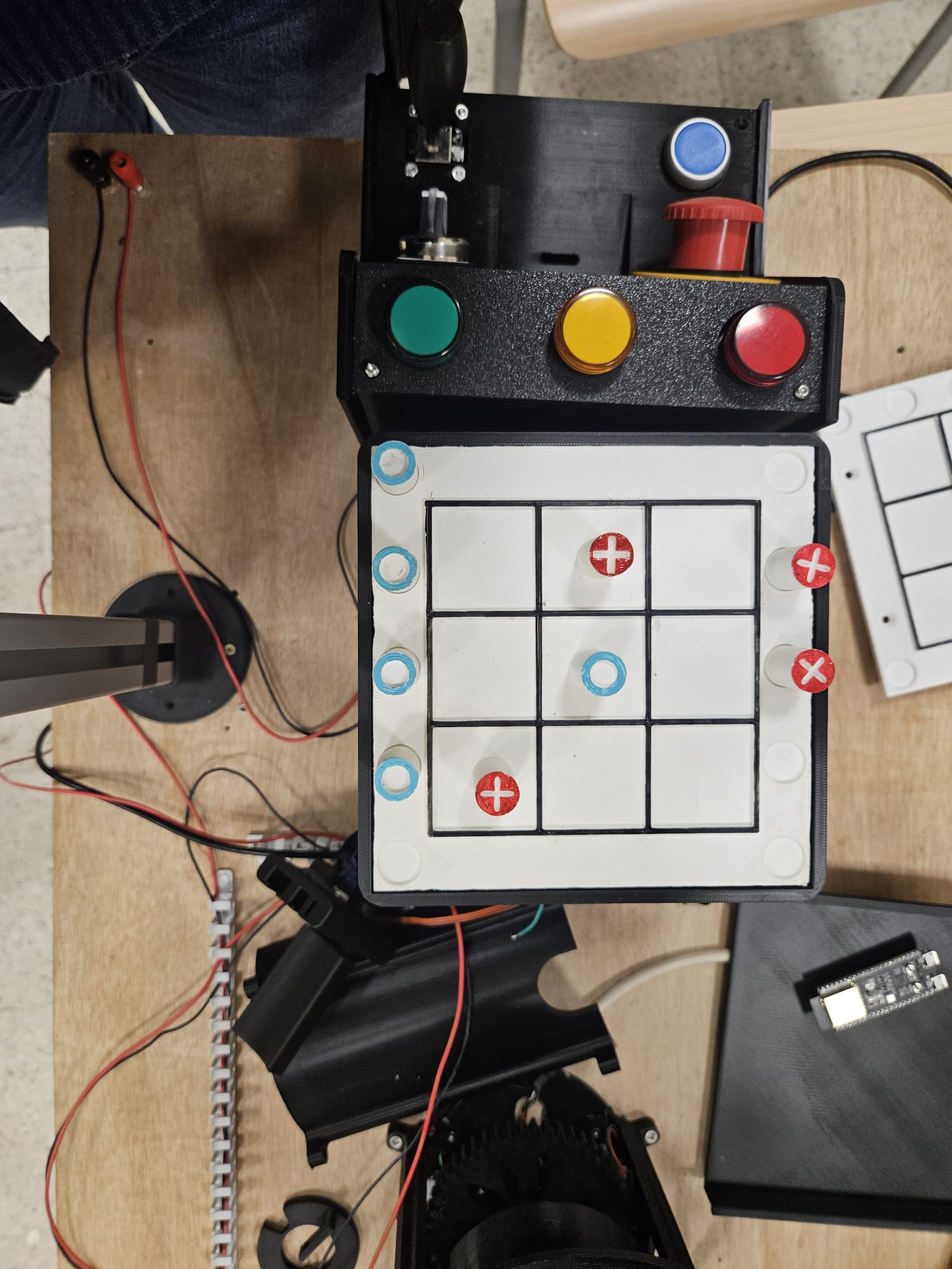blue circle: (372, 546, 418, 592), (371, 440, 416, 487), (581, 652, 626, 696), (374, 757, 418, 801), (373, 651, 416, 695)
board: (363, 438, 818, 896)
cells: (430, 616, 536, 721), (430, 727, 536, 832), (431, 505, 535, 611), (541, 725, 645, 830), (651, 504, 755, 609), (541, 505, 644, 610), (651, 614, 754, 718), (651, 723, 753, 828), (542, 615, 644, 718)
grid: (425, 499, 760, 837)
red cross: (791, 542, 835, 588), (589, 532, 634, 576), (791, 648, 835, 692), (475, 772, 519, 815)
